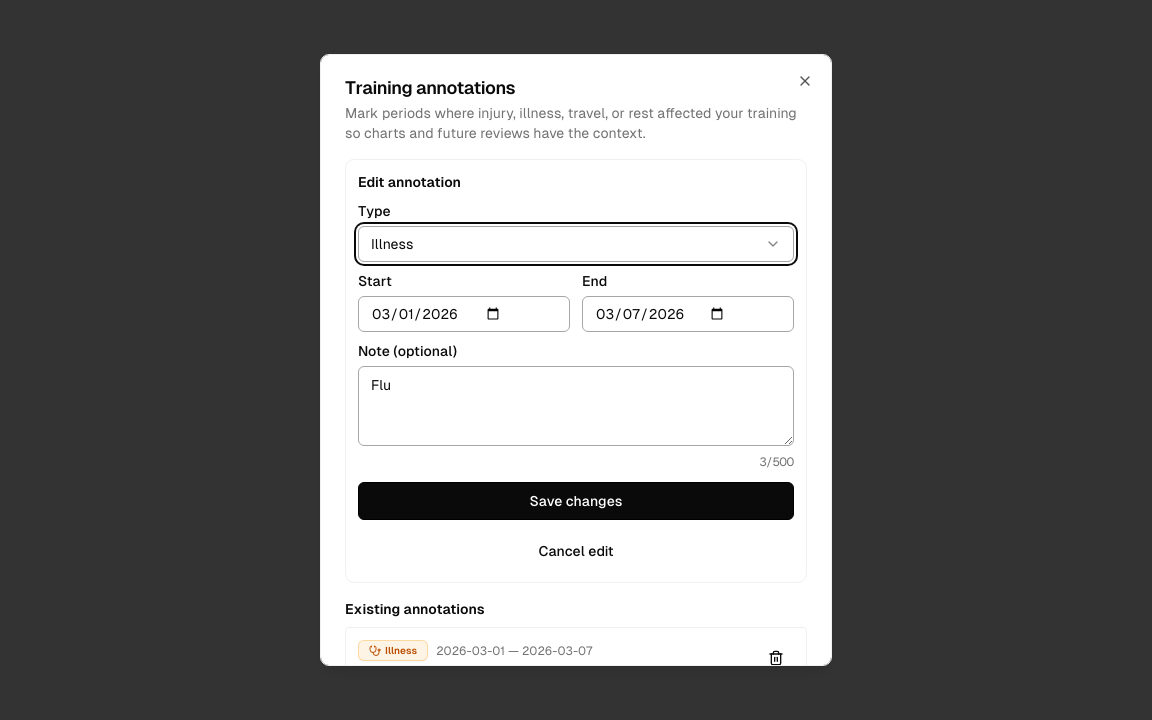
Test: AnnotationsDialog › opened on an annotation to edit › loads the annotation and saves changes to it instead of adding one
The width and height of the screenshot is (1152, 720).
expect the heading "Edit annotation" is shown: met, box 358,174 -> 461,190
expect the date field with test id "input-annotation-start" holds "2026-03-01": met, box 358,296 -> 570,332
Type "2026-03-14" into the date field with test id "input-annotation-end". click: (688, 314)
box: 582,296 -> 794,332
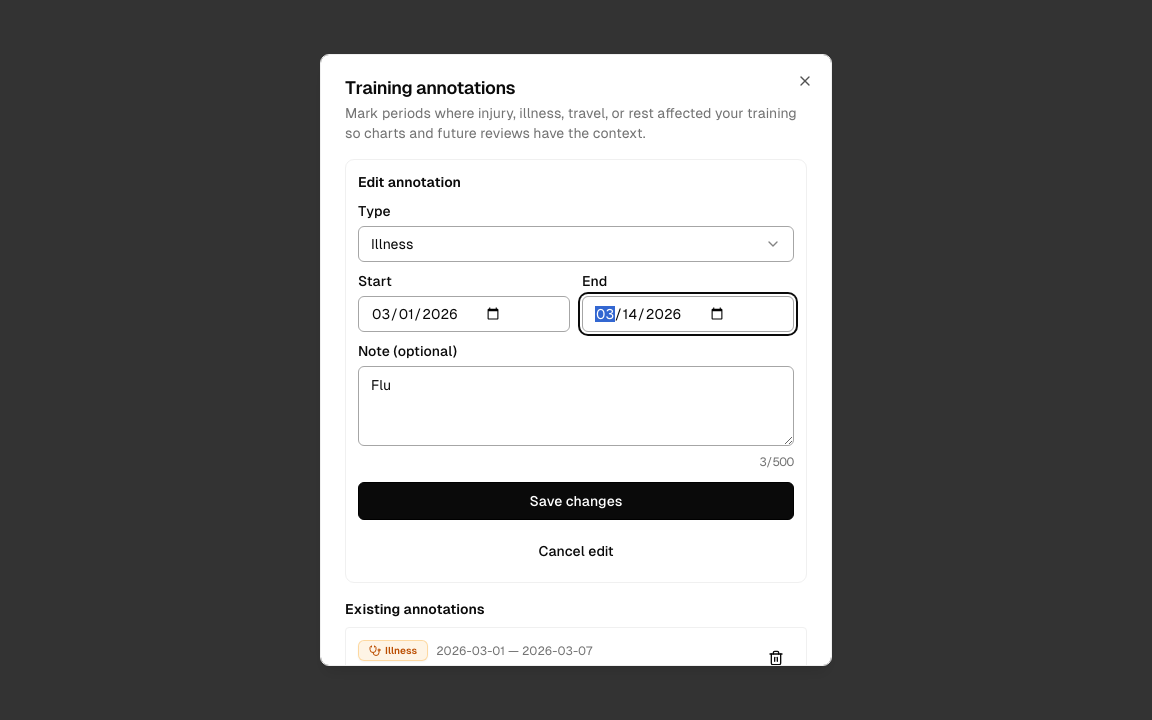
Click the button "Save changes". click: (576, 501)
box: 358,482 -> 794,520
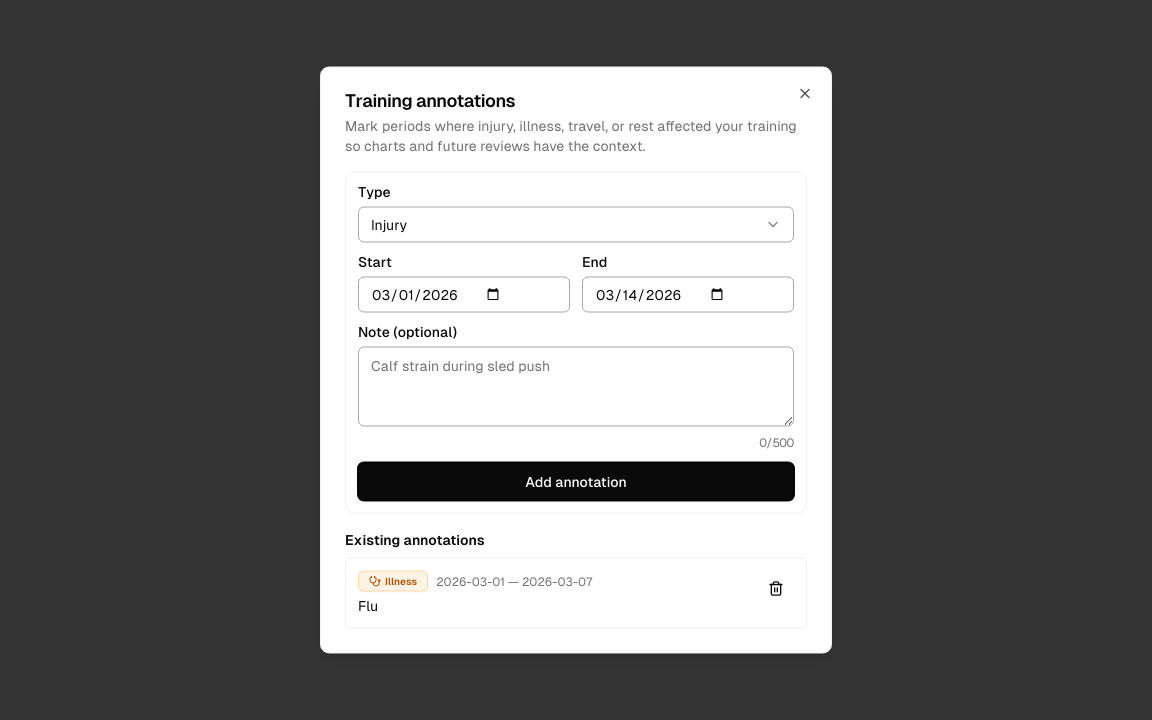
expect the button "Add annotation" is shown: met, box 358,462 -> 794,500
expect the text box with test id "input-annotation-note" is empty: met, box 358,346 -> 794,426
